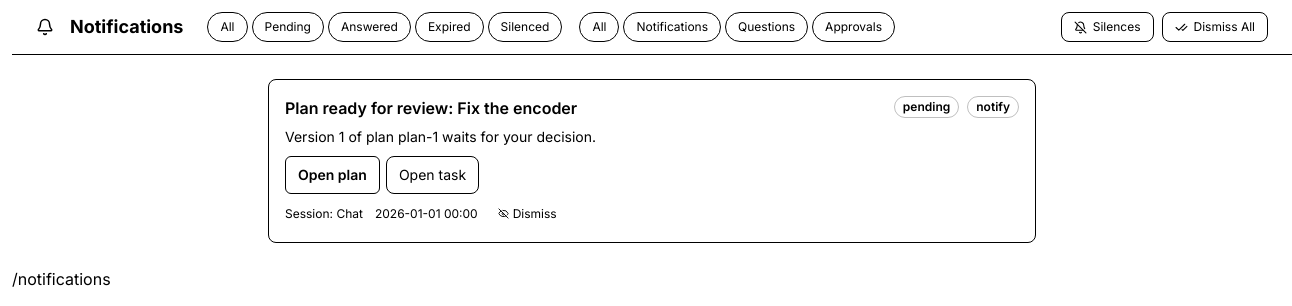
Test case: NotificationsPage links › opens the plan and the task that a notification names
What coordinates should you click on to do the following:
click the button "Open plan"
I would click on:
 (332, 175)
Its box is [285,156,380,194].
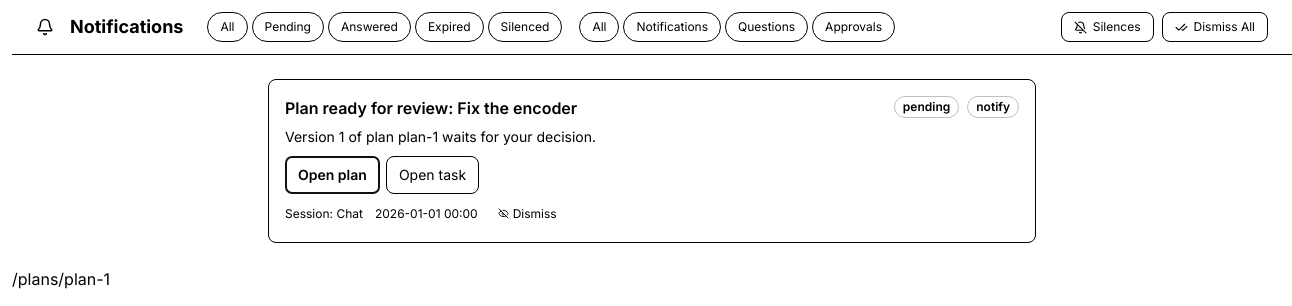
Now the text with test id "where" reads "/plans/plan-1", box [12,269,110,289]
What coordinates should you click on to do the following:
click the button "Open task"
I would click on:
 (432, 175)
Its box is [386,156,479,194].
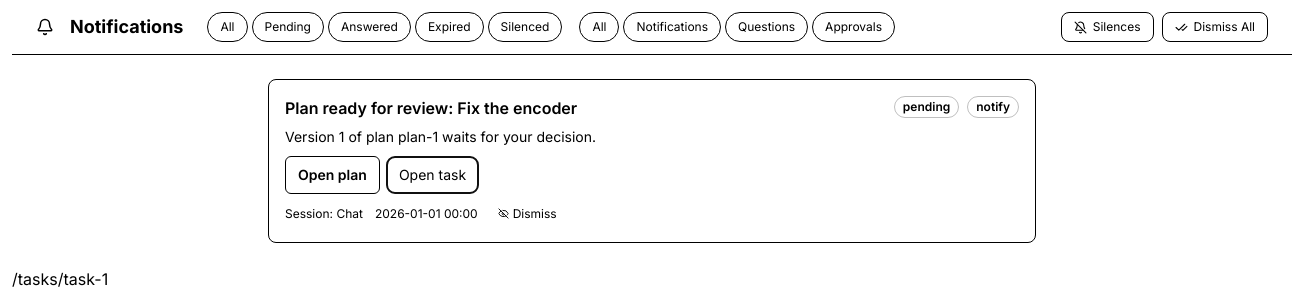
Now the text with test id "where" reads "/tasks/task-1", box [12,269,108,289]
